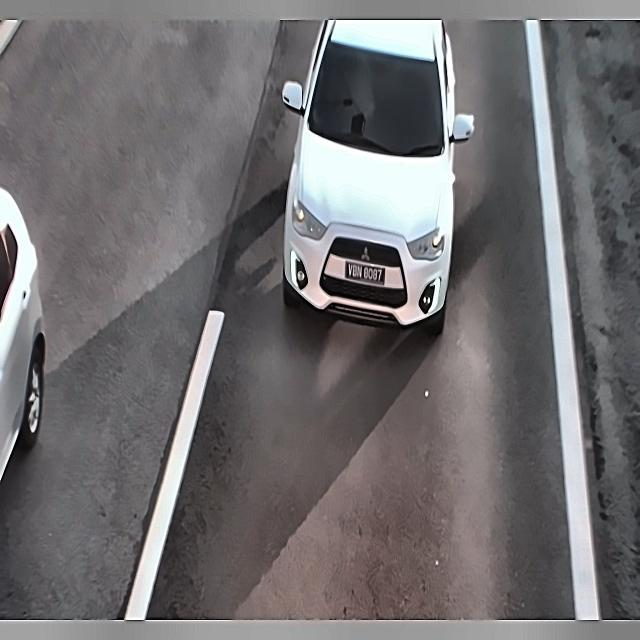car: (343, 252, 390, 292)
